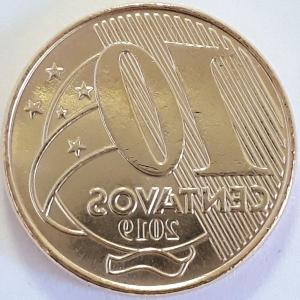10 cent: (2, 1, 297, 296)
